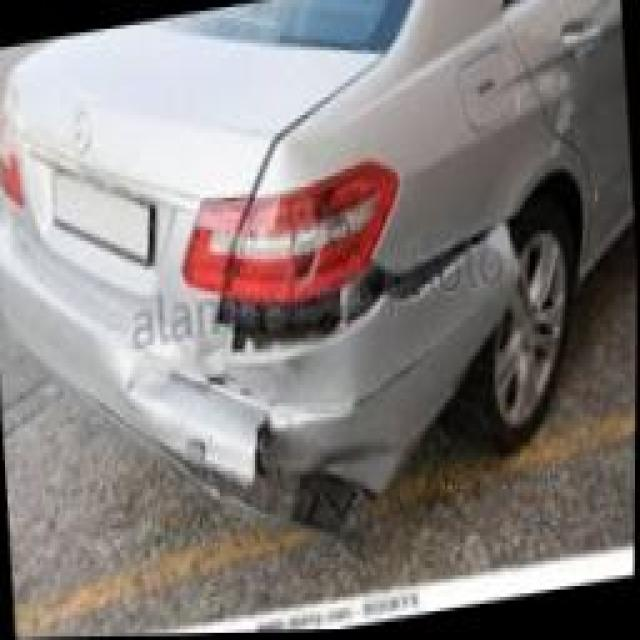replaceable: (121, 222, 527, 491), (450, 314, 452, 326)
